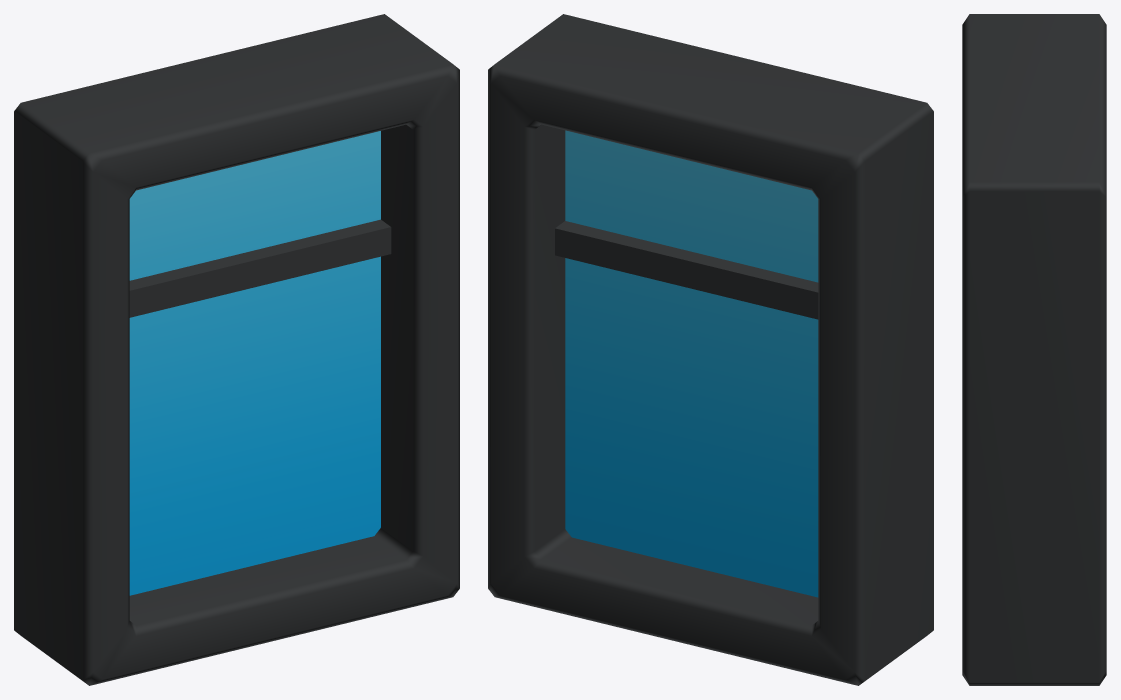
The model's file is Window_Black_11.glb.
3 renders of one model, left to right at view 1: azimuth 30°, elevation 25°; view 2: azimuth 150°, elevation 25°; view 3: azimuth 270°, elevation 25°, orthographic. The views are drawn at different scales.
Visible parts, largest first — view 1: Window_Black_11; view 2: Window_Black_11; view 3: Window_Black_11.
Boxes of the visible parts, x1,y1,x2,y2 form: Window_Black_11: (14, 14, 459, 685); Window_Black_11: (488, 14, 933, 685); Window_Black_11: (962, 14, 1106, 685).
Bounding box in the file's own units: 1.14 × 1.54 × 0.4.
2 materials, 2 textured.
